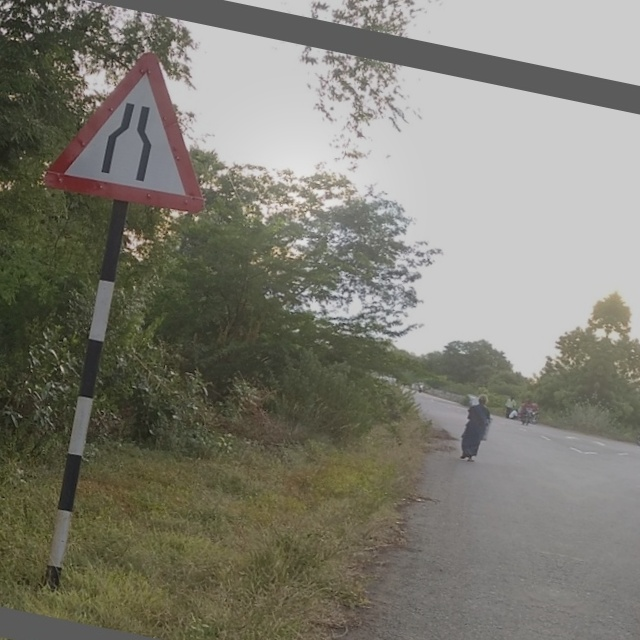Narrow_Road_Ahead: (43, 32, 237, 218)
